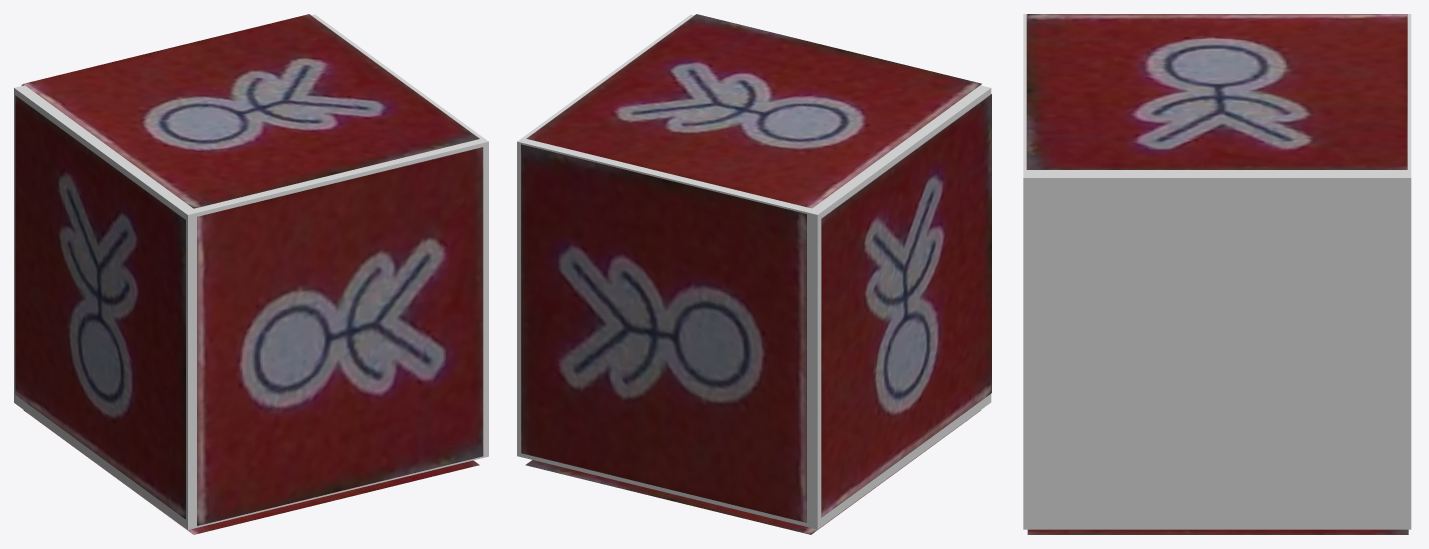
The picture shows the model from 3 angles, left to right: view 1: azimuth 30°, elevation 25°; view 2: azimuth 150°, elevation 25°; view 3: azimuth 270°, elevation 25°; orthographic projection. The views are drawn at different scales.
Parts seen in each view (by area): view 1: fake2.png.005, fake2.png.001, fake2.png.003, Link35, fake2.png.004; view 2: fake2.png.002, fake2.png.001, fake2.png.003, Link35, fake2.png.004; view 3: Link35, fake2.png.003, fake2.png.004.
Boxes of the visible parts, box(x1,y1,x2,y2) form: fake2.png.005: box(197, 147, 483, 525); fake2.png.001: box(15, 95, 185, 519); fake2.png.003: box(23, 14, 479, 208); Link35: box(14, 14, 488, 529); fake2.png.004: box(23, 410, 479, 534); fake2.png.002: box(521, 144, 806, 522); fake2.png.001: box(821, 94, 991, 517); fake2.png.003: box(526, 14, 981, 208); Link35: box(517, 14, 991, 529); fake2.png.004: box(525, 410, 981, 534); Link35: box(1023, 14, 1411, 529); fake2.png.003: box(1026, 14, 1407, 169); fake2.png.004: box(1027, 529, 1408, 534).
Bounding box in the file's own units: 0.3515 × 0.3561 × 0.3629.
1 material, 1 textured.
